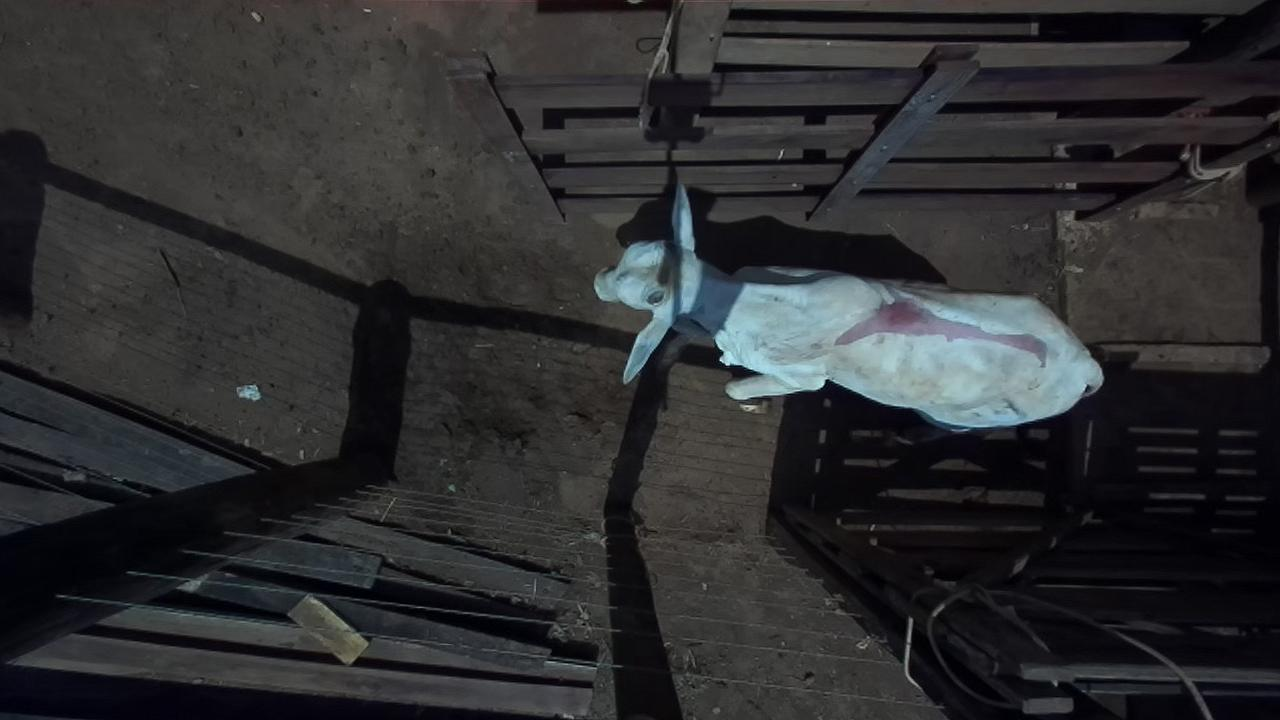cattle: (592, 182, 1105, 432)
